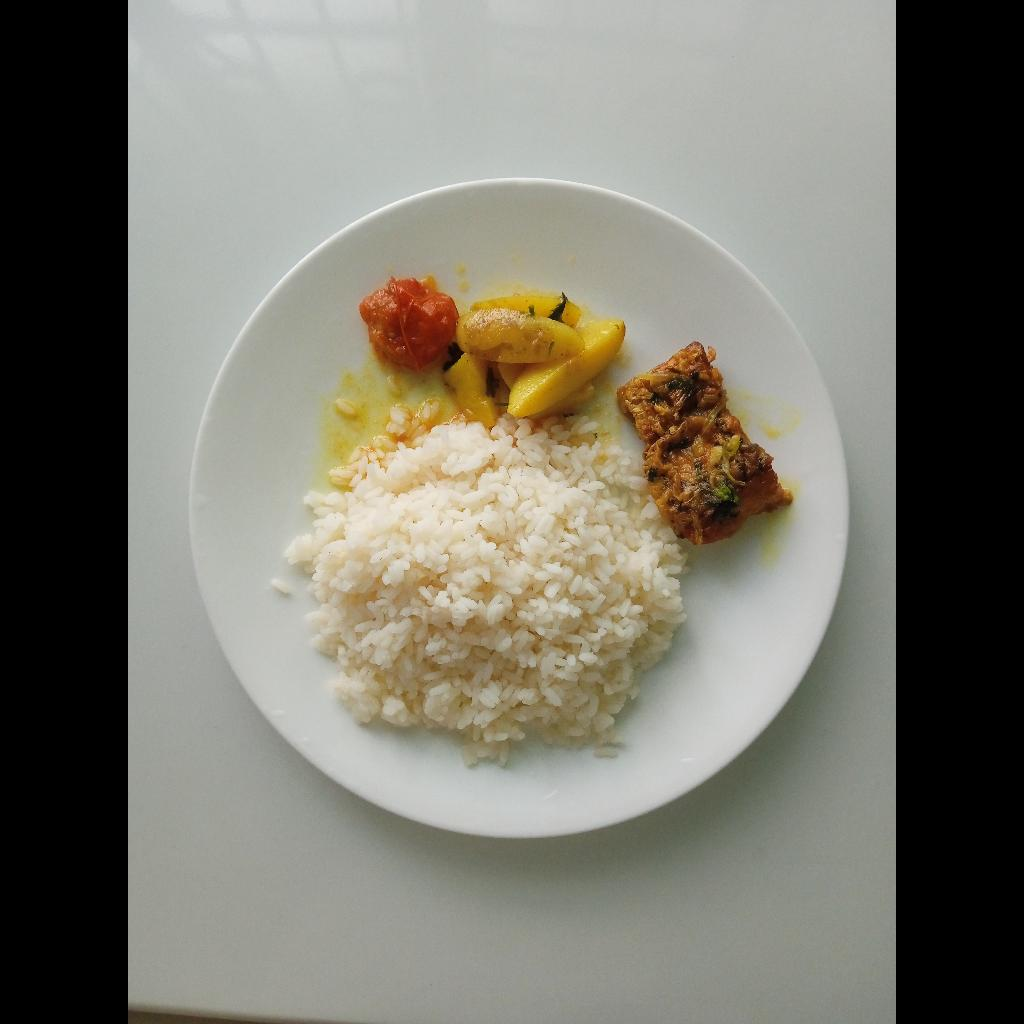fish: (616, 341, 794, 545)
potato: (443, 296, 624, 425)
rice: (279, 404, 688, 769)
tomato: (362, 277, 459, 370)
